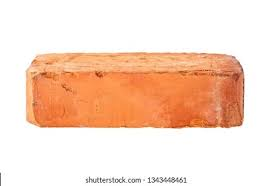brick: (26, 68, 243, 126)
